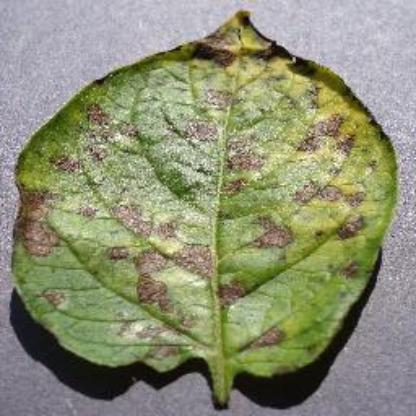Early-Blight: (9, 9, 397, 404)
